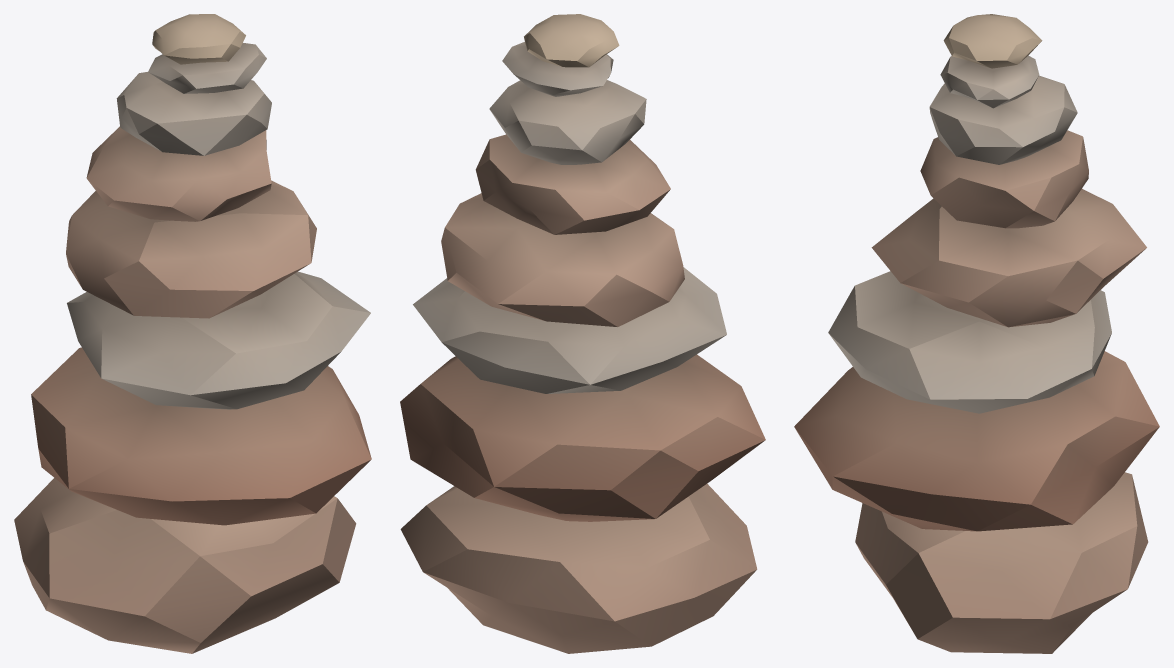
Rendered from cairn.glb.
The picture shows the model from 3 angles, left to right: view 1: azimuth 30°, elevation 25°; view 2: azimuth 150°, elevation 25°; view 3: azimuth 270°, elevation 25°; orthographic projection.
Visible parts, largest first — view 1: cairn; view 2: cairn; view 3: cairn.
Part boxes in pixels (x1=…): cairn: x1=14, y1=14, x2=371, y2=653; cairn: x1=400, y1=14, x2=765, y2=653; cairn: x1=794, y1=14, x2=1159, y2=653.
Bounding box in the file's own units: 1.71 × 3.04 × 1.67.
